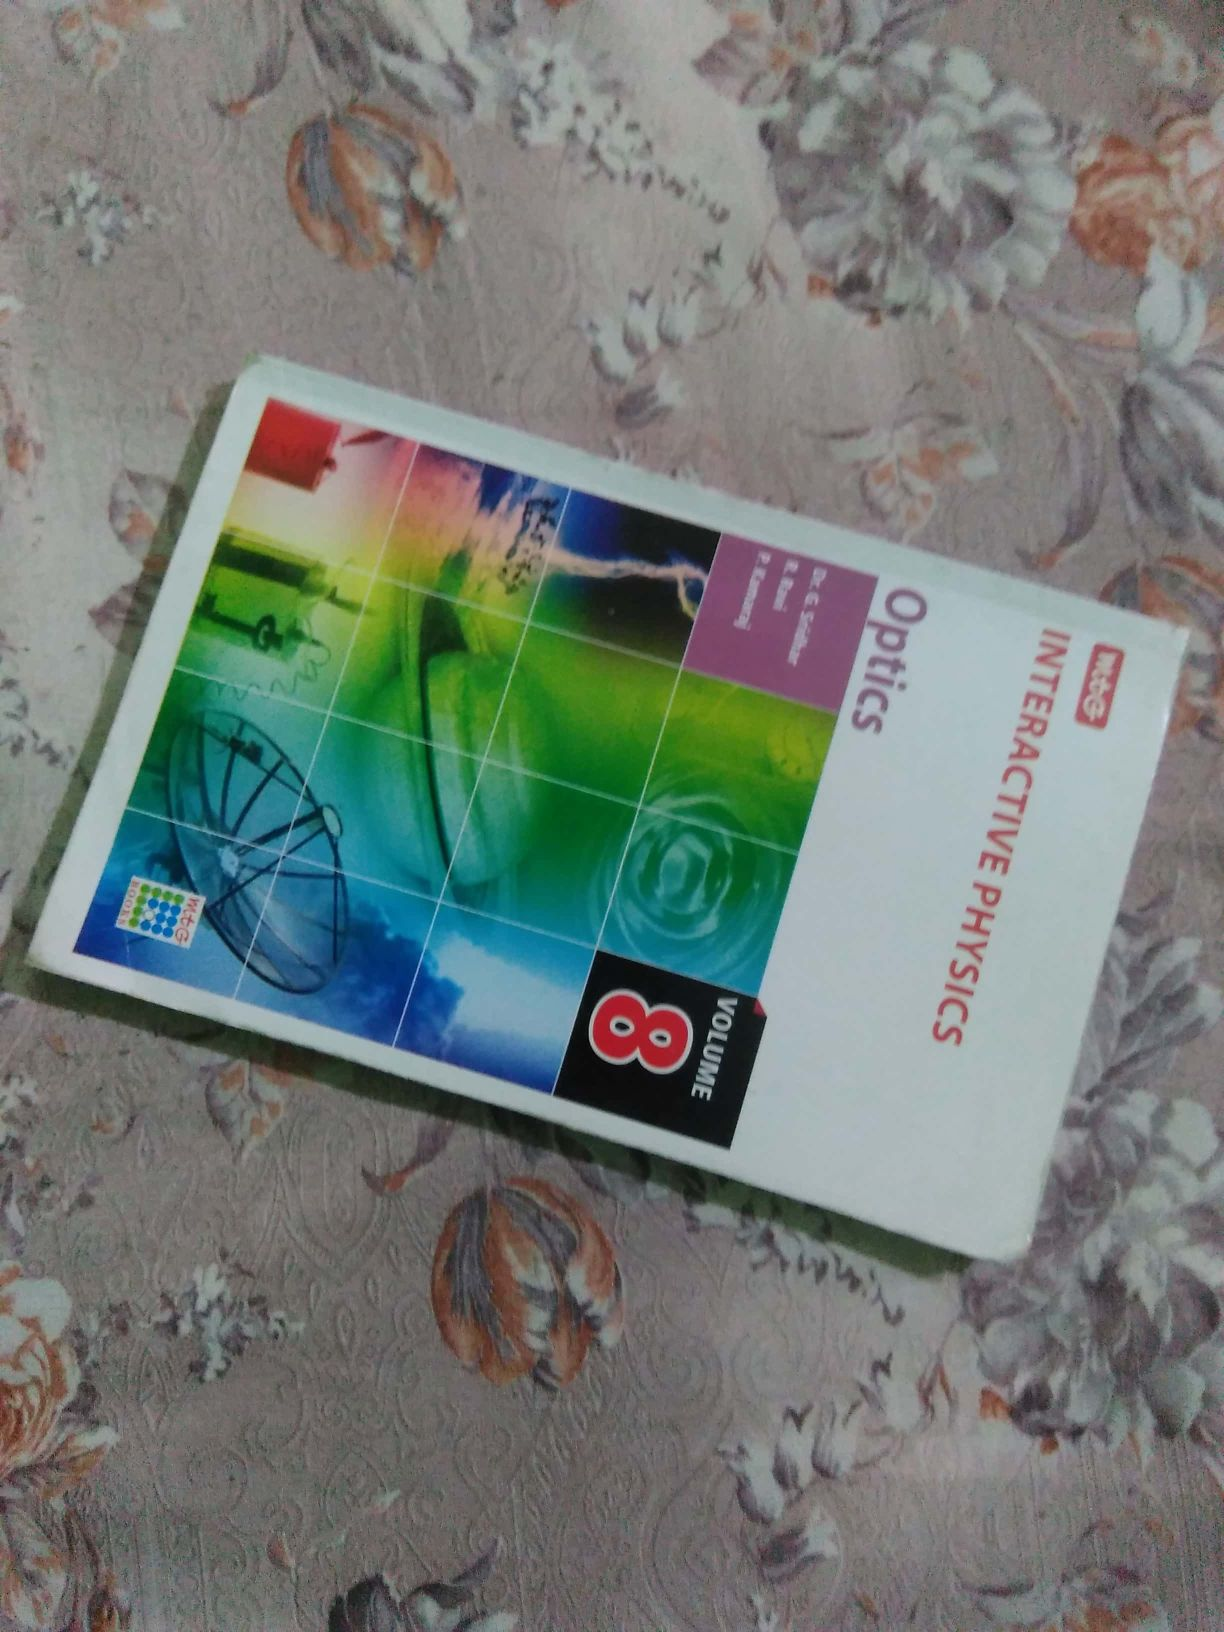optics: (53, 362, 1187, 1234)
